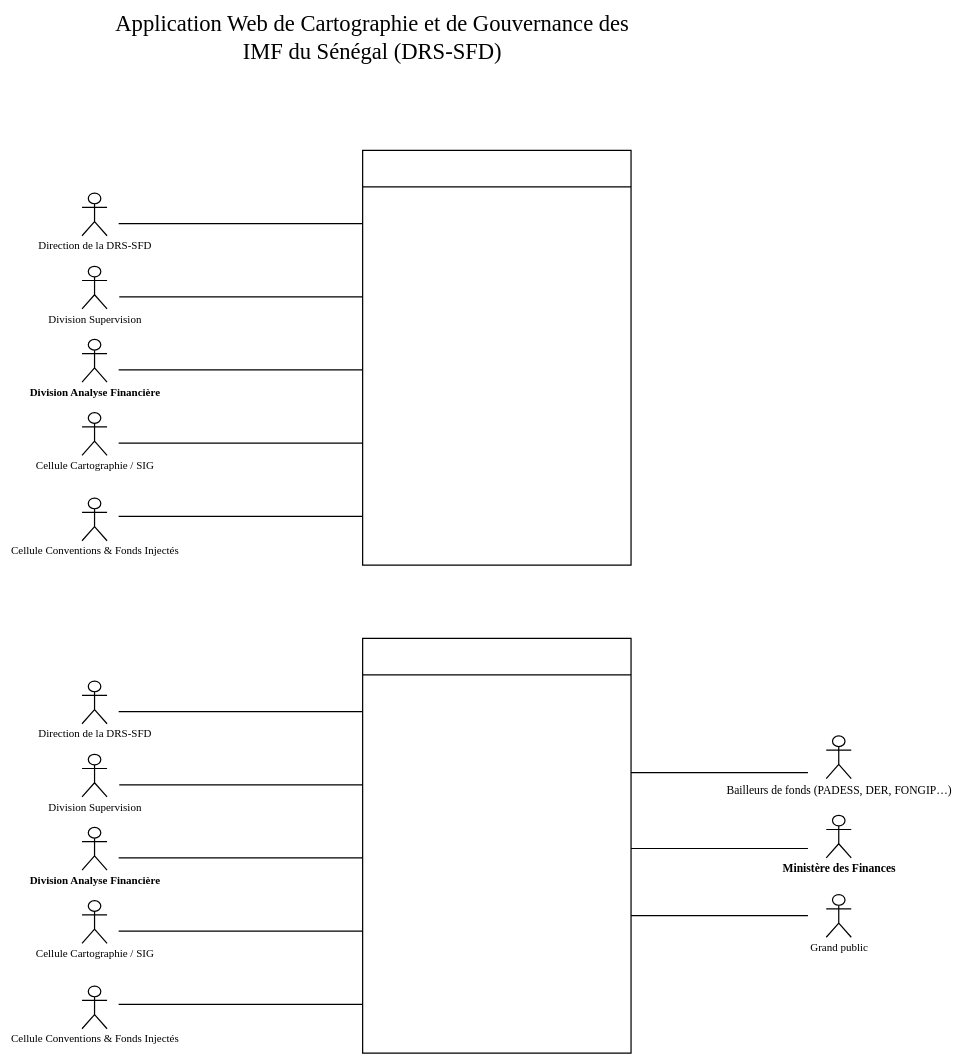
This 962x1064 diagram has some shape labels left out. The centre of each missing label's shape, as x and y in pixels:
"Application interne DRS-SFD ( V1)" goes at point 496,357.
"Application interne DRS-SFD ( V2)" goes at point 496,845.
